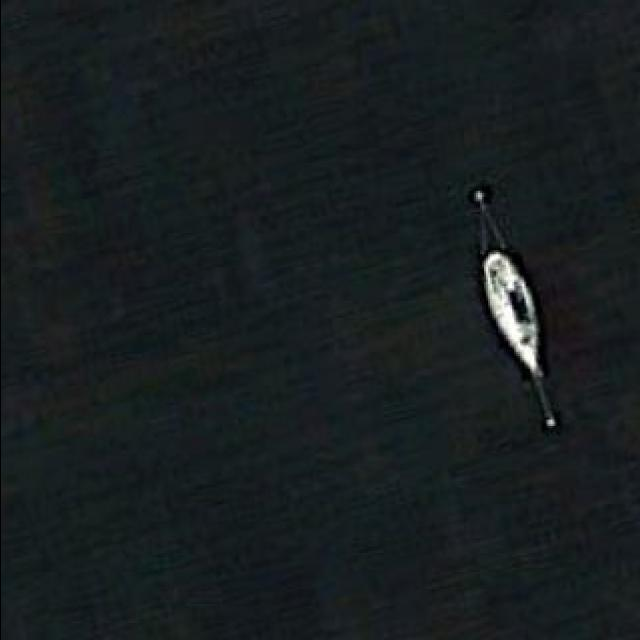ship: (481, 252, 545, 386)
